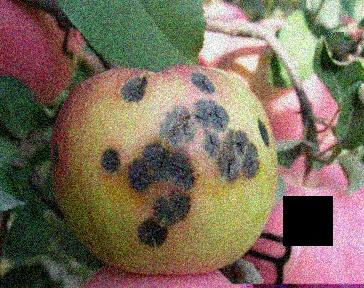rotten apple: (48, 60, 278, 275)
